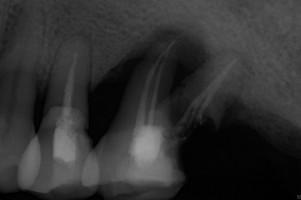Dental Caries: (99, 17, 207, 83)
